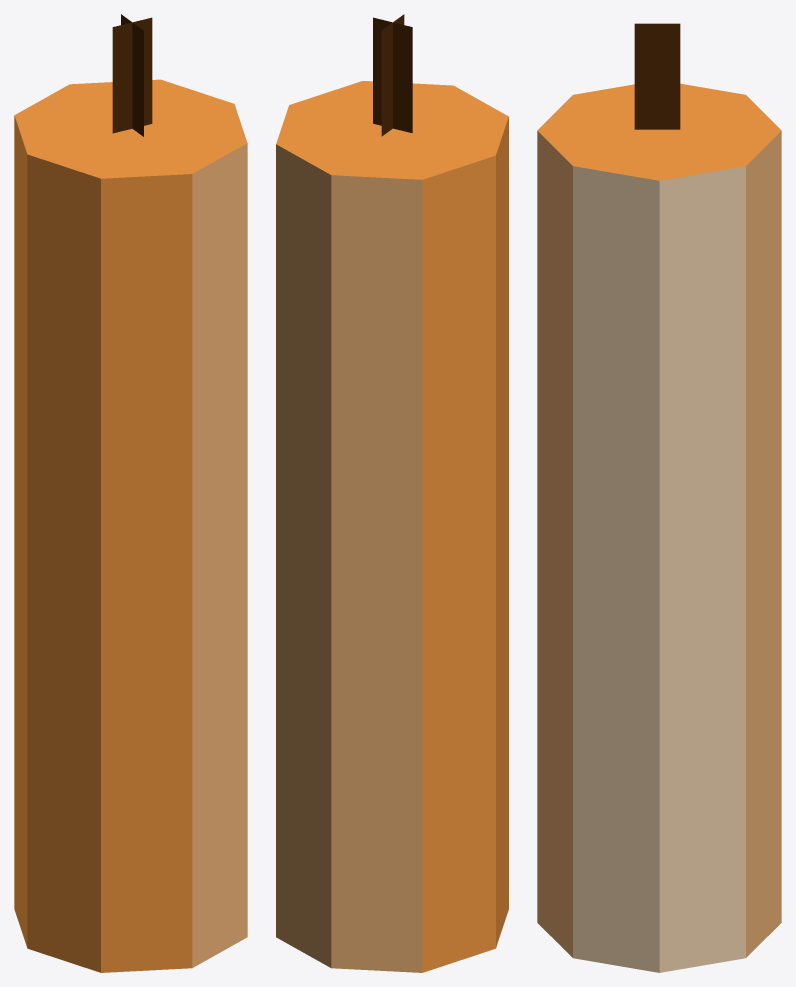
The model's file is candle_336x00.gltf.
3 views of the same model, side by side, from view 1: azimuth 30°, elevation 25°; view 2: azimuth 150°, elevation 25°; view 3: azimuth 270°, elevation 25° (orthographic).
Visible parts, largest first — view 1: candle_336x00; view 2: candle_336x00; view 3: candle_336x00.
Part boxes in pixels (x1,y1,x2,y2): candle_336x00: [14, 14, 247, 972]; candle_336x00: [276, 14, 508, 972]; candle_336x00: [537, 23, 781, 972].
Size of the model in its own units: 0.2172 by 0.9038 by 0.2228.
1 material, 1 textured.
